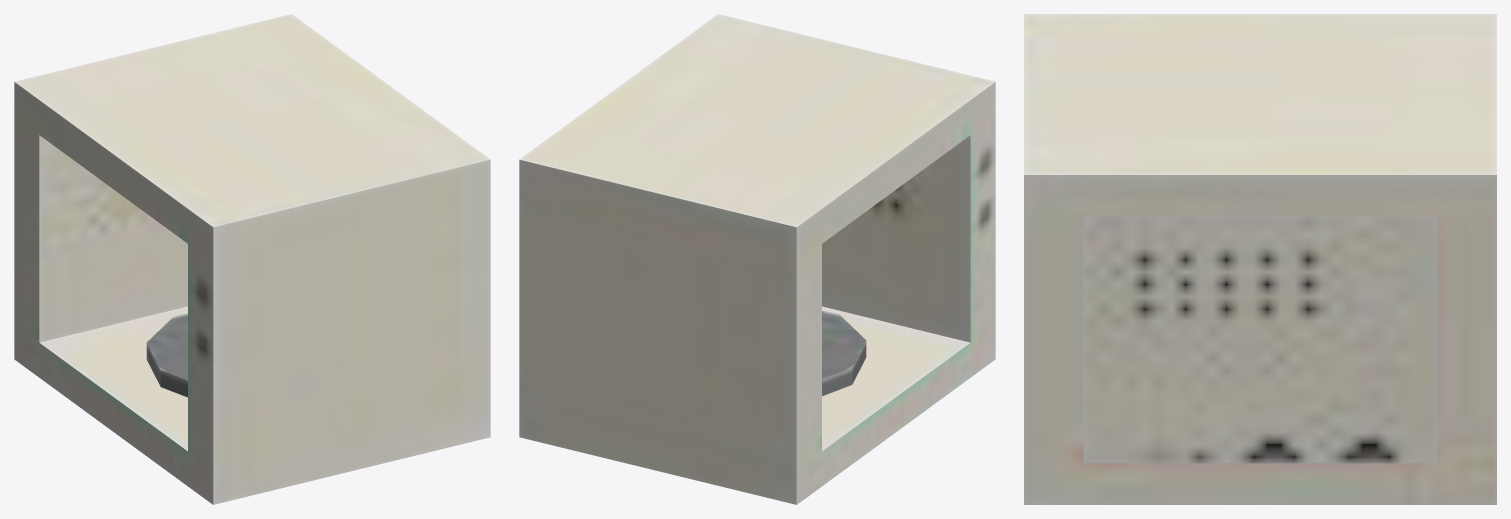
Rendered from микроволновка.obj.
3 renders of one model, left to right at view 1: azimuth 30°, elevation 25°; view 2: azimuth 150°, elevation 25°; view 3: azimuth 270°, elevation 25°, orthographic. The views are drawn at different scales.
Parts seen in each view (by area): view 1: cylinder.001; view 2: cylinder.001; view 3: cylinder.001.
Boxes of the visible parts, bbox=[...] form: cylinder.001: bbox=[14, 14, 490, 504]; cylinder.001: bbox=[519, 14, 995, 504]; cylinder.001: bbox=[1024, 14, 1496, 504].
Bounding box in the file's own units: 0.875 × 0.8365 × 1.09.
